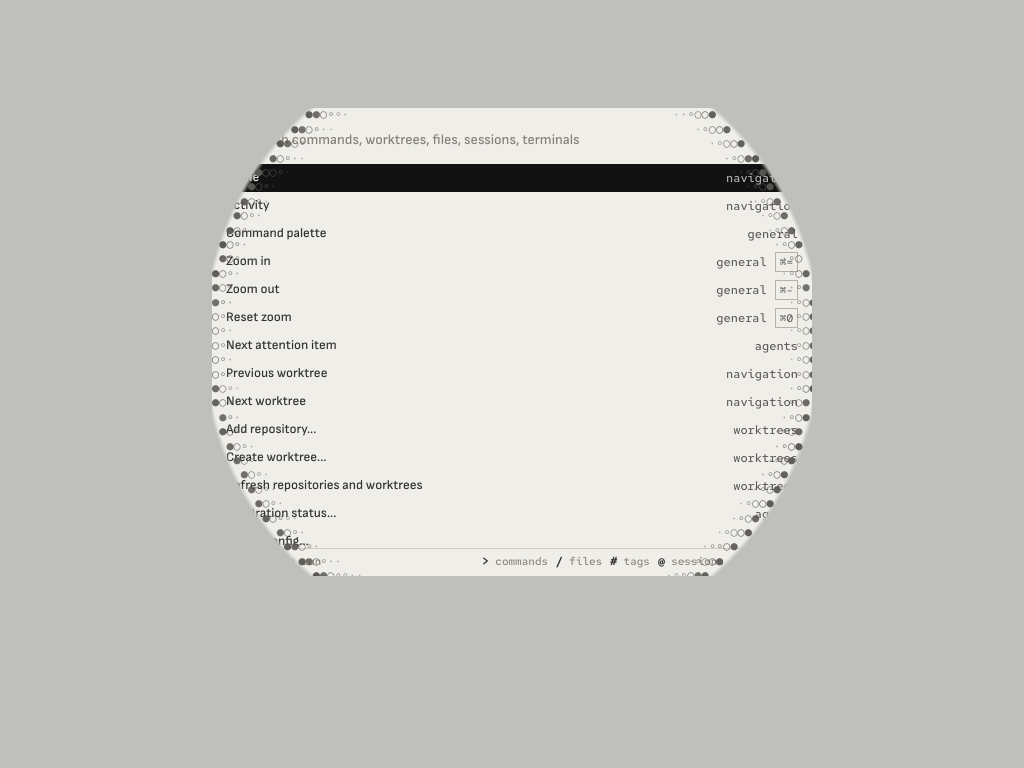
Test: palette nested actions › opens a worktree's actions with a breadcrumb and goes back with Backspace
Type "aoga" into the field labelled "search commands" at (523, 140), box [248,112,798,168]
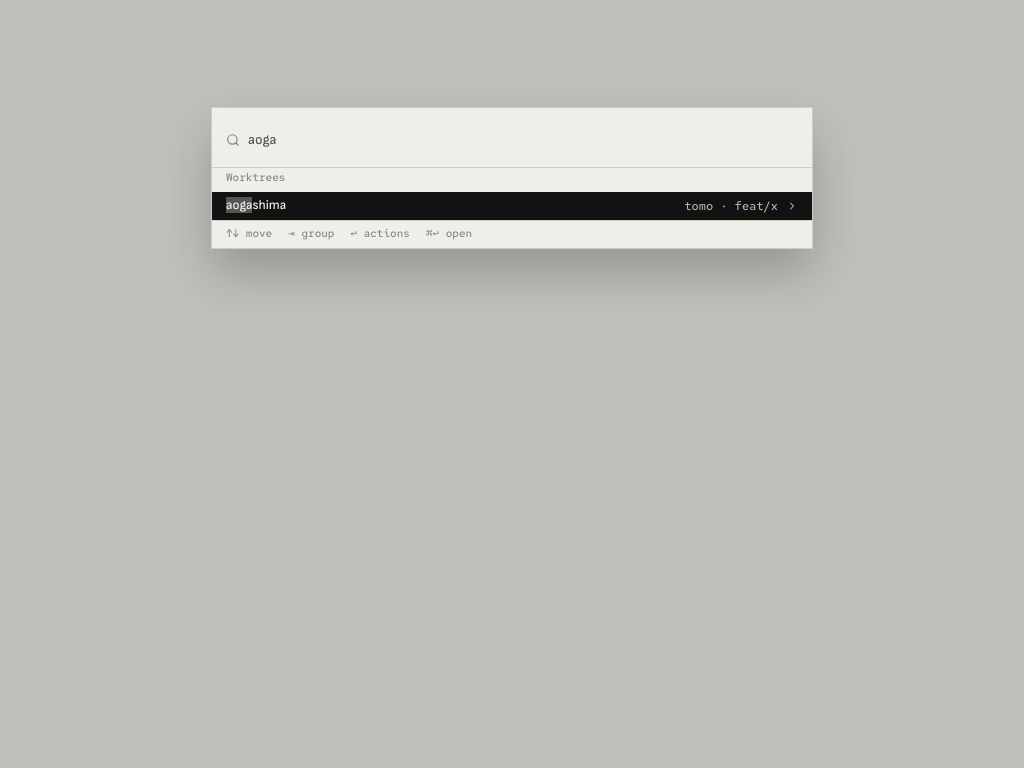
Check: the element showing "aogashima" is shown, box [226,197,286,213]
Press Enter
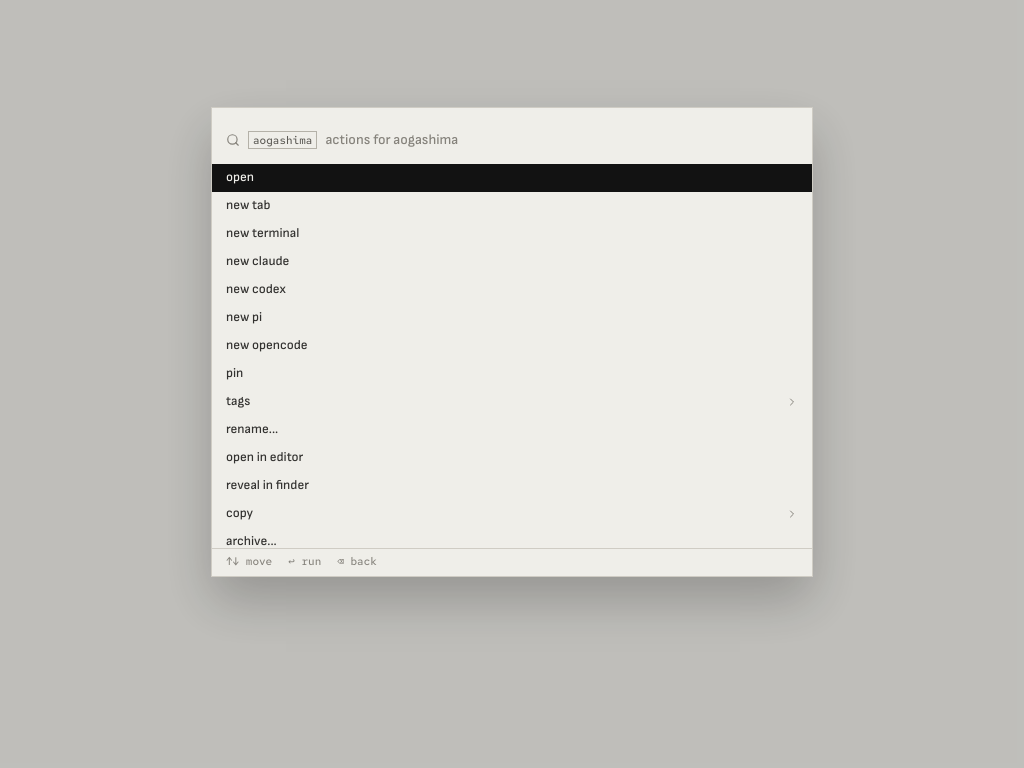
Check: the field named "Search commands" is empty, box [325,112,798,168]
Press Backspace
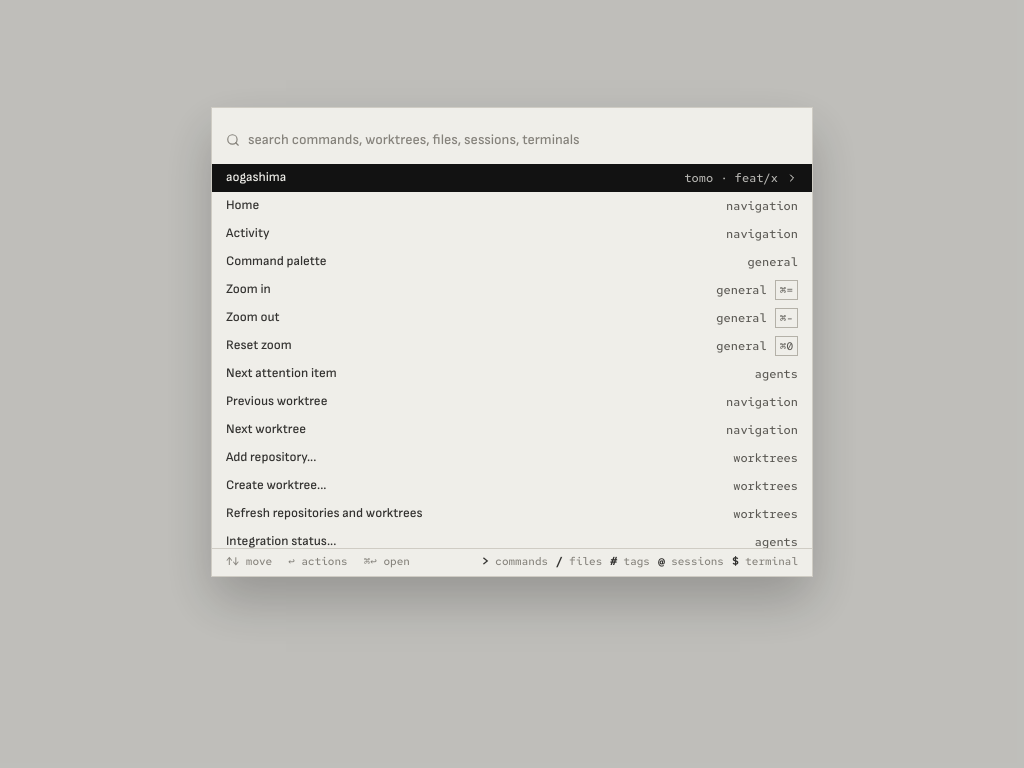
Check: the text "aogashima" is shown, box [226,169,286,185]
